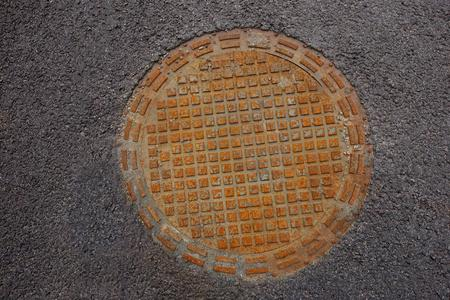wellcover: (110, 25, 388, 285)
